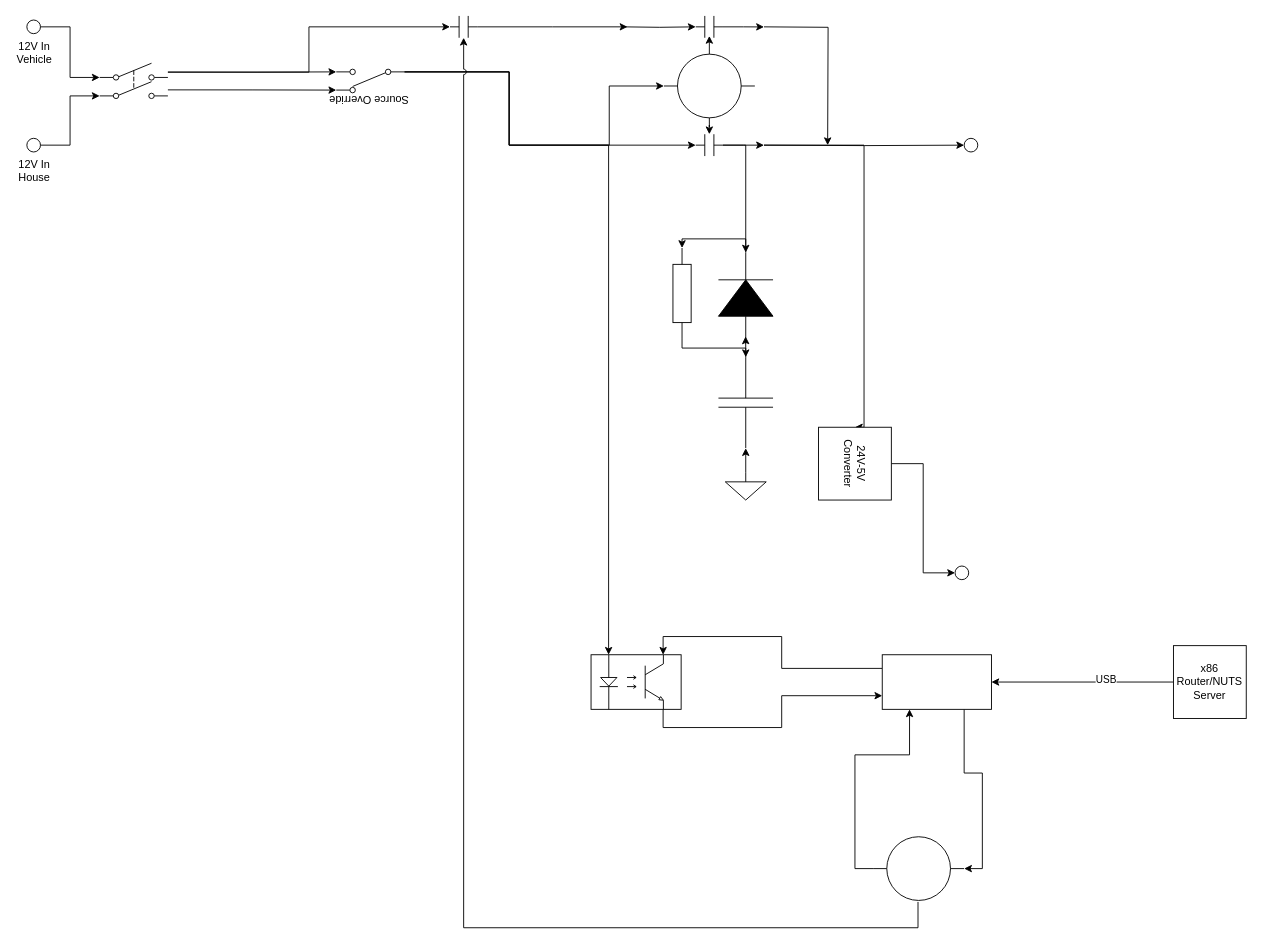
The diagram is 1262 pixels wide and 951 high, and some of its shapes have lost their labels. The shapes that lost their labels are listed below. From the top down, each one's centre as x and y in pixels, then its label:
At point (133, 80): "Power".
At point (936, 681): "Arduino Micro".
